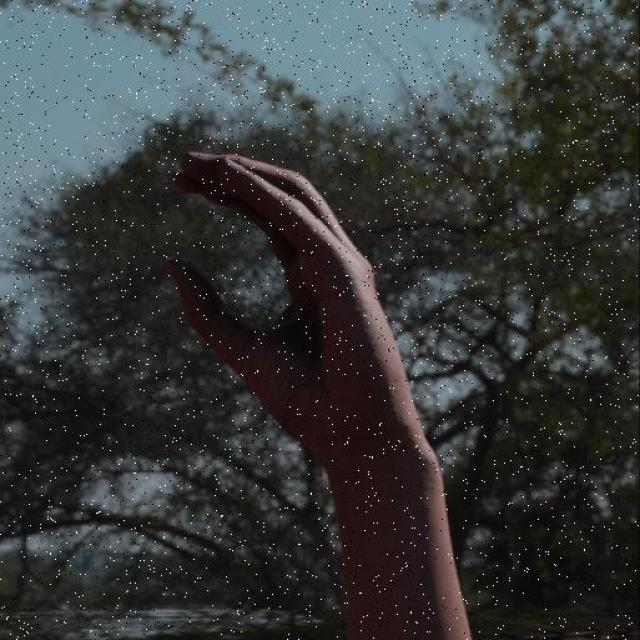C: (168, 144, 406, 473)
